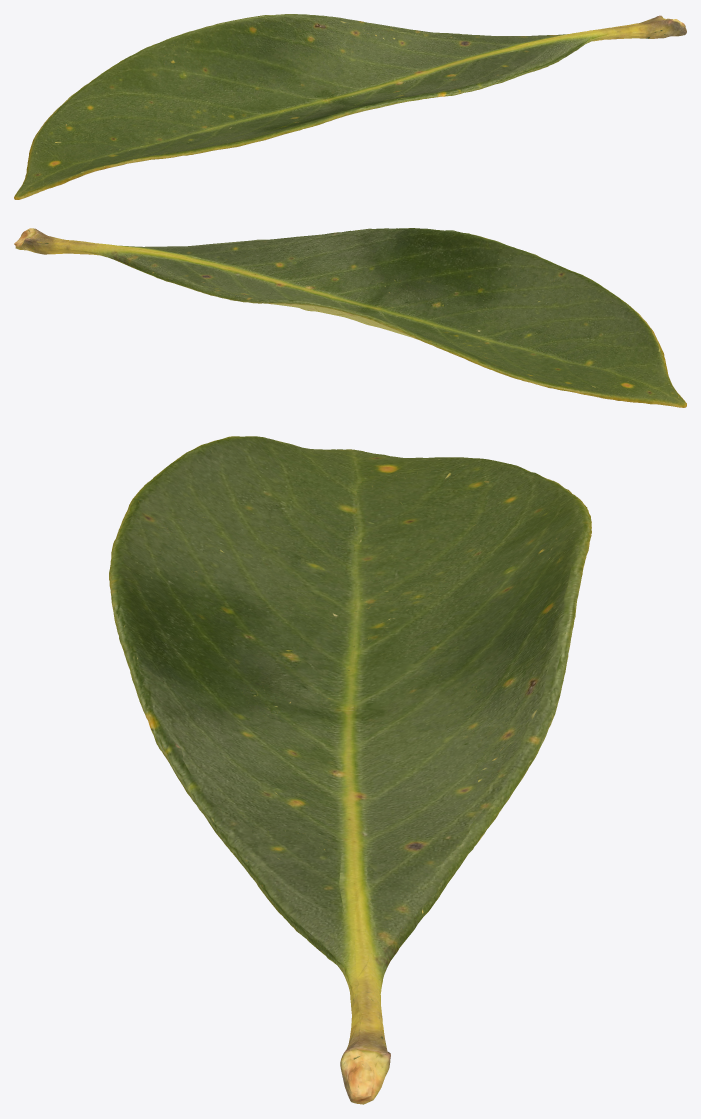
Rendered from Leaf.glb.
3 views of the same model, one above another, from view 1: azimuth 30°, elevation 25°; view 2: azimuth 150°, elevation 25°; view 3: azimuth 270°, elevation 25° (orthographic). The views are drawn at different scales.
Parts seen in each view (by area): view 1: Object_6; view 2: Object_6; view 3: Object_6.
Boxes of the visible parts, left/top/right/bottom form: Object_6: left=14, top=14, right=686, bottom=199; Object_6: left=14, top=228, right=686, bottom=407; Object_6: left=109, top=436, right=591, bottom=1104.
Bounding box in the file's own units: 0.0996 × 0.0101 × 0.0312.
Materials: 1 (1 with a texture image).
